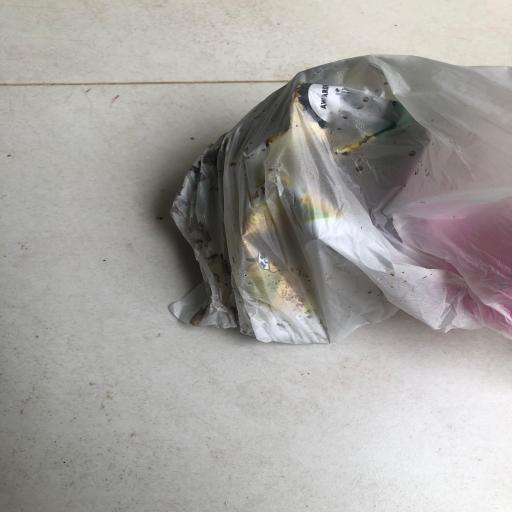waste: (164, 40, 512, 366)
